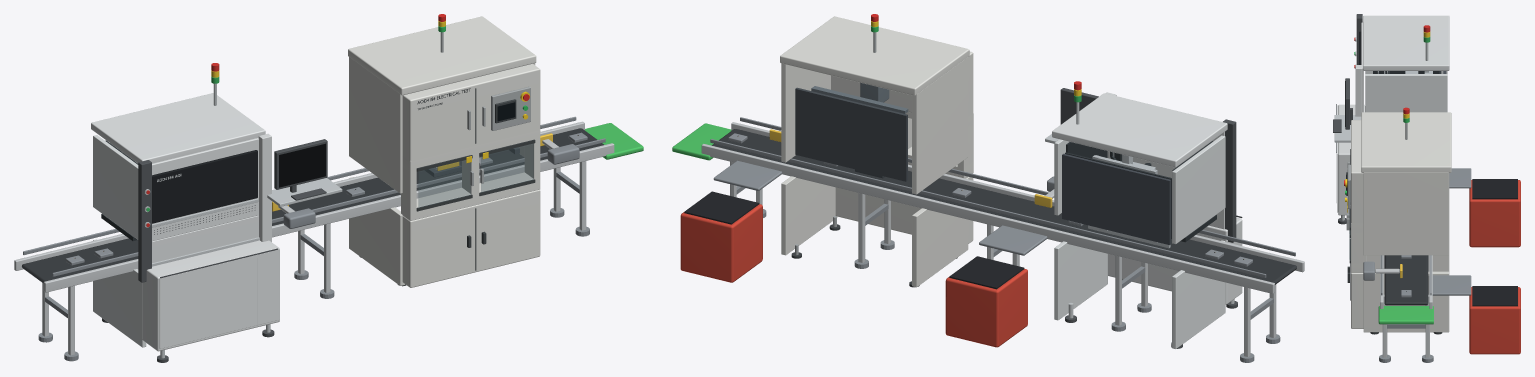
File: mosfet_inspection_line_v9.fbx
3 views of the same model, side by side, from view 1: azimuth 30°, elevation 25°; view 2: azimuth 150°, elevation 25°; view 3: azimuth 270°, elevation 25° (orthographic). The views are drawn at different scales.
Visible parts, largest first — view 1: ICT_v9_lower_cabinet, AOI_v6_lower_front, ICT_v9_roof, ICT_v9_upper_cabinet, AOI_v6_body_top, ICT_v9_side_upper, AOI_v6_inspection_hatch, Continuous_belt, Side_extrusion, AOI_v5_side_upper, AOI_v6_lower_cabinet, ICT_v9_side_lower (+24 smaller); view 2: ICT_v9_roof, ICT_dark_backdrop, AOI_v6_body_top, Continuous_belt, AOI_back_inner_wall, Side_extrusion.001, ICT_v9_side_upper, NG_bin_body.001, NG_bin_body, AOI_v5_side_upper, ICT_v9_side_lower, ICT_v9_side_lower.001 (+19 smaller); view 3: ICT_v9_side_upper.001, ICT_v9_roof, AOI_v6_body_top, AOI_v5_side_upper.001, NG_bin_body, NG_bin_body.001, Continuous_belt, ICT_v9_side_lower.001, ICT_v9_upper_cabinet, OK_output_tray, NG_bin_opening, NG_bin_opening.001 (+17 smaller).
Part boxes in pixels (left/top/right/bottom): ICT_v9_lower_cabinet: left=402, top=189, right=540, bottom=287; AOI_v6_lower_front: left=159, top=249, right=279, bottom=348; ICT_v9_roof: left=348, top=16, right=536, bottom=95; ICT_v9_upper_cabinet: left=402, top=63, right=540, bottom=160; AOI_v6_body_top: left=91, top=93, right=265, bottom=163; ICT_v9_side_upper: left=349, top=57, right=402, bottom=193; AOI_v6_inspection_hatch: left=152, top=150, right=257, bottom=223; Continuous_belt: left=22, top=128, right=603, bottom=283; Side_extrusion: left=43, top=143, right=614, bottom=292; AOI_v5_side_upper: left=93, top=135, right=138, bottom=239; AOI_v6_lower_cabinet: left=142, top=240, right=279, bottom=351; ICT_v9_side_lower: left=349, top=177, right=404, bottom=285; ICT_v9_roof: left=780, top=16, right=969, bottom=95; ICT_dark_backdrop: left=795, top=87, right=907, bottom=181; AOI_v6_body_top: left=1052, top=93, right=1227, bottom=167; Continuous_belt: left=712, top=129, right=1296, bottom=284; AOI_back_inner_wall: left=1062, top=153, right=1171, bottom=245; Side_extrusion.001: left=701, top=144, right=1274, bottom=293; ICT_v9_side_upper: left=912, top=57, right=968, bottom=194; NG_bin_body.001: left=680, top=204, right=762, bottom=282; NG_bin_body: left=945, top=268, right=1027, bottom=347; AOI_v5_side_upper: left=1172, top=135, right=1225, bottom=244; ICT_v9_side_lower: left=912, top=178, right=968, bottom=287; ICT_v9_side_lower.001: left=781, top=176, right=837, bottom=255; ICT_v9_side_upper.001: left=1363, top=172, right=1449, bottom=255; ICT_v9_roof: left=1361, top=112, right=1451, bottom=172; AOI_v6_body_top: left=1363, top=15, right=1449, bottom=70; AOI_v5_side_upper.001: left=1365, top=74, right=1447, bottom=112; NG_bin_body: left=1469, top=180, right=1520, bottom=247; NG_bin_body.001: left=1469, top=287, right=1520, bottom=354; Continuous_belt: left=1384, top=255, right=1428, bottom=305; ICT_v9_side_lower.001: left=1363, top=271, right=1449, bottom=332; ICT_v9_upper_cabinet: left=1351, top=120, right=1363, bottom=223; OK_output_tray: left=1378, top=306, right=1433, bottom=324; NG_bin_opening: left=1472, top=179, right=1517, bottom=199; NG_bin_opening.001: left=1472, top=286, right=1517, bottom=306.
Bounding box in the file's own units: 725 × 278 × 237.
